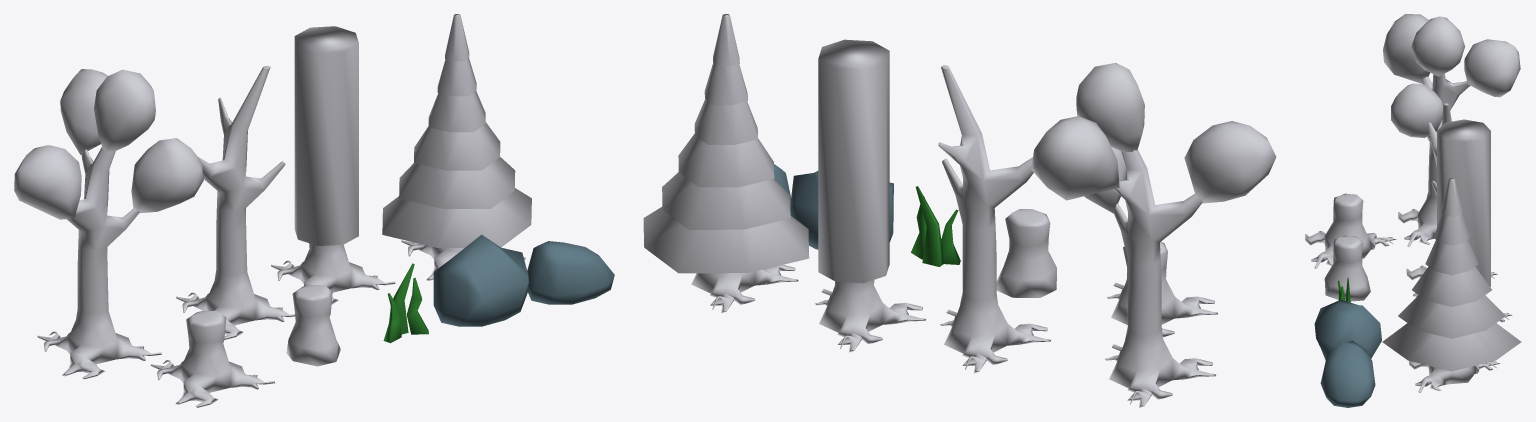
File: vegetation-pack.glb
3 views of the same model, side by side, from view 1: azimuth 30°, elevation 25°; view 2: azimuth 150°, elevation 25°; view 3: azimuth 270°, elevation 25° (orthographic). The views are drawn at different scales.
Parts seen in each view (by area): view 1: Cylinder.006, Cylinder.004, Cylinder.003, Cylinder.005, Cylinder.001, Cylinder.007, Cylinder.002, Cylinder.008, Cylinder; view 2: Cylinder.006, Cylinder.004, Cylinder.003, Cylinder.005, Cylinder.008, Cylinder.007, Cylinder, Cylinder.001; view 3: Cylinder.004, Cylinder.006, Cylinder.003, Cylinder.002, Cylinder.001, Cylinder.007, Cylinder.008, Cylinder.005.
Boxes of the visible parts, x1,y1,x2,y2 form: Cylinder.006: [14, 69, 203, 379]; Cylinder.004: [382, 14, 531, 280]; Cylinder.003: [271, 26, 395, 304]; Cylinder.005: [176, 66, 295, 339]; Cylinder.001: [433, 234, 528, 326]; Cylinder.007: [150, 310, 274, 407]; Cylinder.002: [527, 241, 614, 304]; Cylinder.008: [286, 285, 340, 366]; Cylinder: [383, 263, 428, 343]; Cylinder.006: [1031, 63, 1276, 407]; Cylinder.004: [643, 14, 809, 312]; Cylinder.003: [814, 39, 926, 352]; Cylinder.005: [938, 65, 1050, 373]; Cylinder.008: [996, 209, 1056, 297]; Cylinder.007: [1106, 242, 1217, 336]; Cylinder: [911, 186, 960, 266]; Cylinder.001: [790, 171, 893, 249]; Cylinder.004: [1382, 178, 1521, 392]; Cylinder.006: [1383, 14, 1520, 246]; Cylinder.003: [1437, 119, 1512, 322]; Cylinder.002: [1320, 340, 1375, 407]; Cylinder.001: [1314, 299, 1381, 360]; Cylinder.007: [1305, 193, 1396, 268]; Cylinder.008: [1324, 235, 1370, 301]; Cylinder.005: [1406, 103, 1497, 296].
Size of the model in its own units: 19.24 by 9.13 by 8.02.
